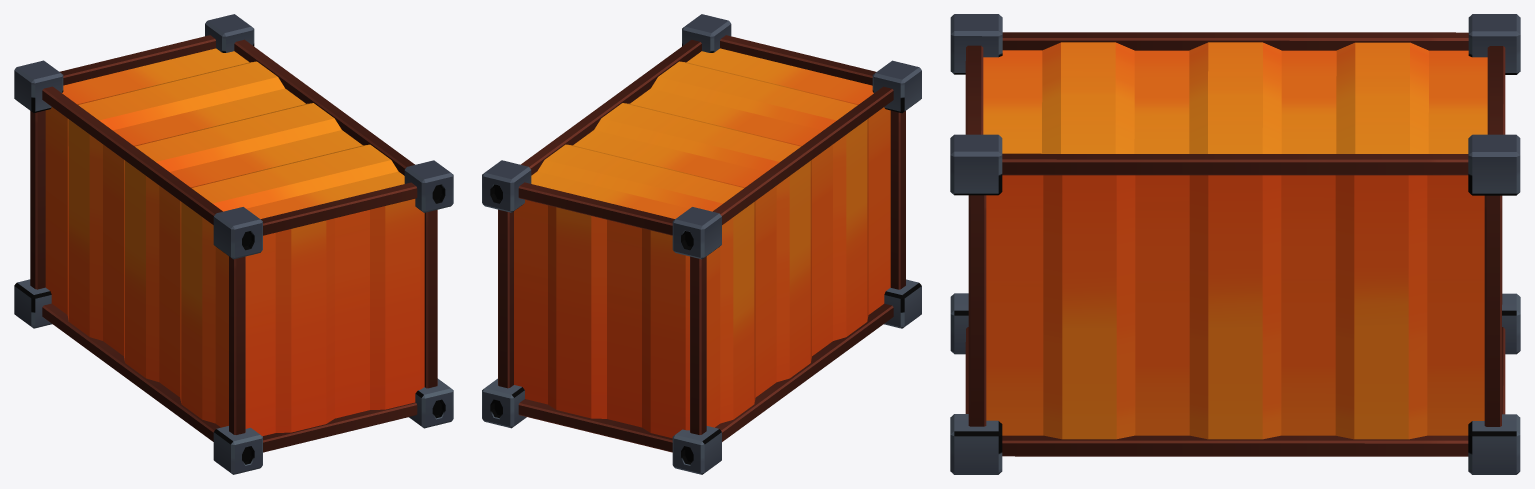
Rendered from orangebox.fbx.
3 renders of one model, left to right at view 1: azimuth 30°, elevation 25°; view 2: azimuth 150°, elevation 25°; view 3: azimuth 270°, elevation 25°, orthographic. The views are drawn at different scales.
Parts seen in each view (by area): view 1: orangebox; view 2: orangebox; view 3: orangebox.
Boxes of the visible parts, x1,y1,x2,y2 form: orangebox: [14, 14, 453, 474]; orangebox: [482, 14, 921, 474]; orangebox: [950, 14, 1520, 474].
Size of the model in its own units: 292 by 312 by 499.
Materials: 1 (1 with a texture image).
